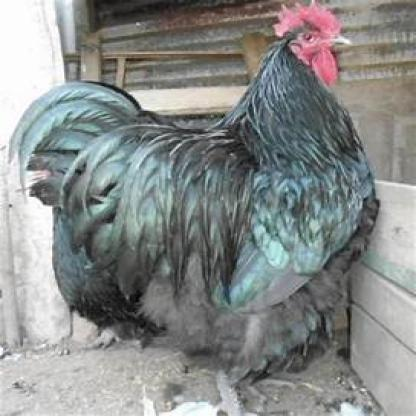chicken: (9, 1, 382, 414)
